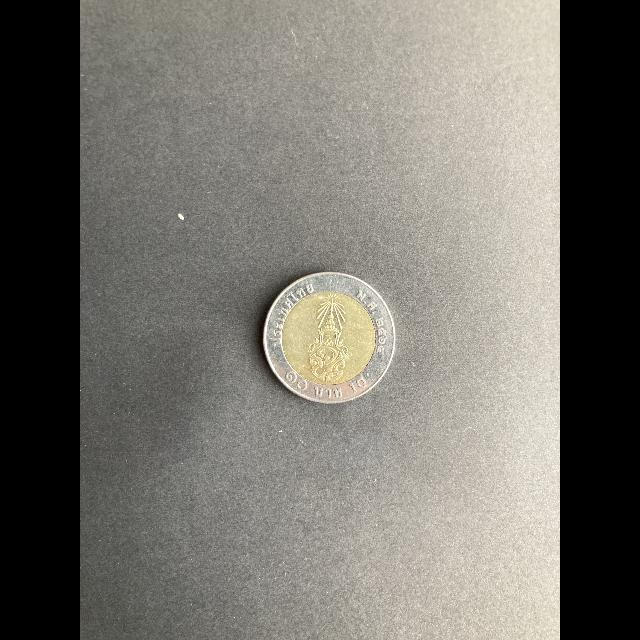10 Bath: (263, 267, 402, 411)
